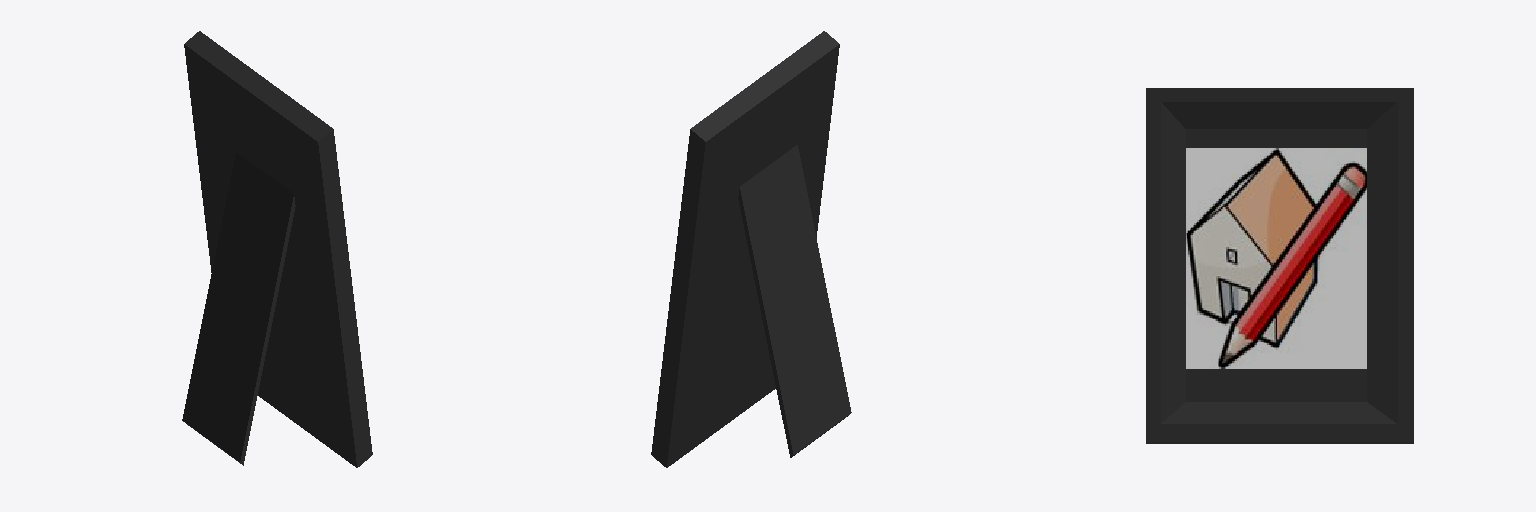
The picture shows the model from 3 angles: view 1: azimuth 30°, elevation 25°; view 2: azimuth 150°, elevation 25°; view 3: azimuth 270°, elevation 25°; orthographic projection.
Visible parts, largest first — view 1: Mesh1_Model.002; view 2: Mesh1_Model.002; view 3: Mesh1_Model.002.
Boxes of the visible parts, box(x1,y1,x2,y2) form: Mesh1_Model.002: box(182, 31, 372, 467); Mesh1_Model.002: box(651, 31, 851, 467); Mesh1_Model.002: box(1146, 88, 1413, 443).
Size of the model in its own units: 0.3 by 1 by 0.7.
Materials: 2 (1 with a texture image).